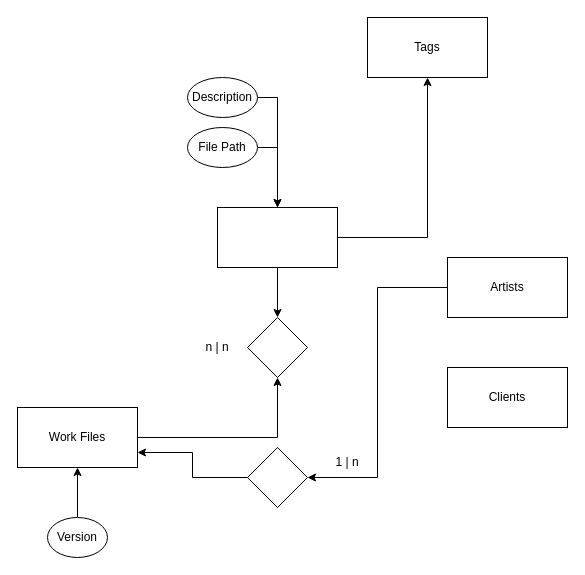
Some shapes in this 585 by 575 pixel diagram are drawn without their labels. The centre of each missing label's shape, as x and y in pixels:
"Projects" goes at point (277, 347).
"Tasks" goes at point (277, 477).
"Video" goes at point (277, 237).
